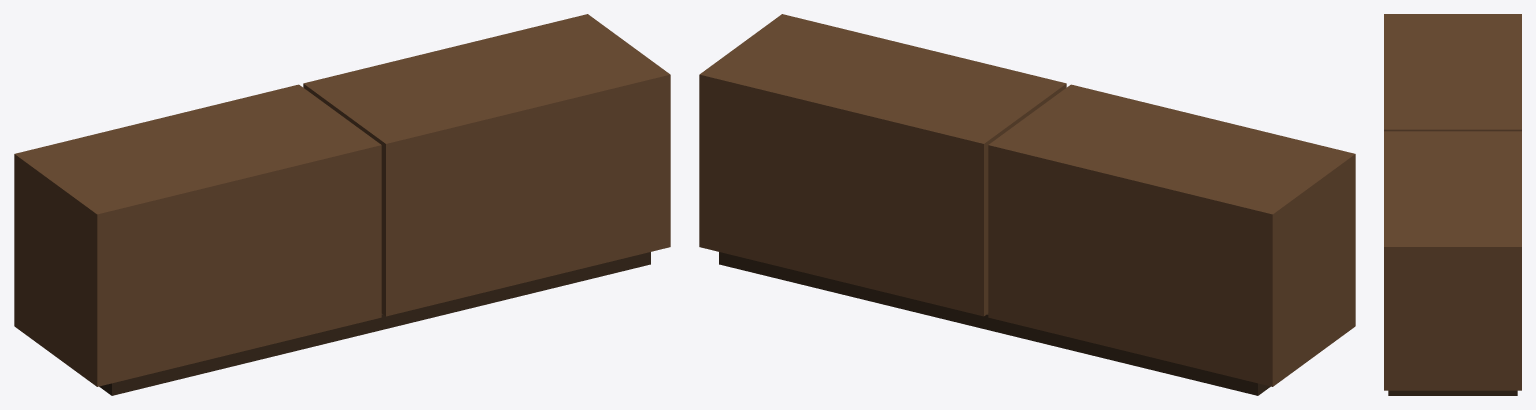
Rendered from storage_tv_unit.glb.
The picture shows the model from 3 angles, left to right: view 1: azimuth 30°, elevation 25°; view 2: azimuth 150°, elevation 25°; view 3: azimuth 270°, elevation 25°; orthographic projection. The views are drawn at different scales.
Visible parts, largest first — view 1: furniture; view 2: furniture; view 3: furniture.
Boxes of the visible parts, box(x1,y1,x2,y2) form: furniture: box(14, 14, 670, 395); furniture: box(699, 14, 1355, 395); furniture: box(1384, 14, 1521, 395).
Size of the model in its own units: 1.6 by 0.5 by 0.4.
